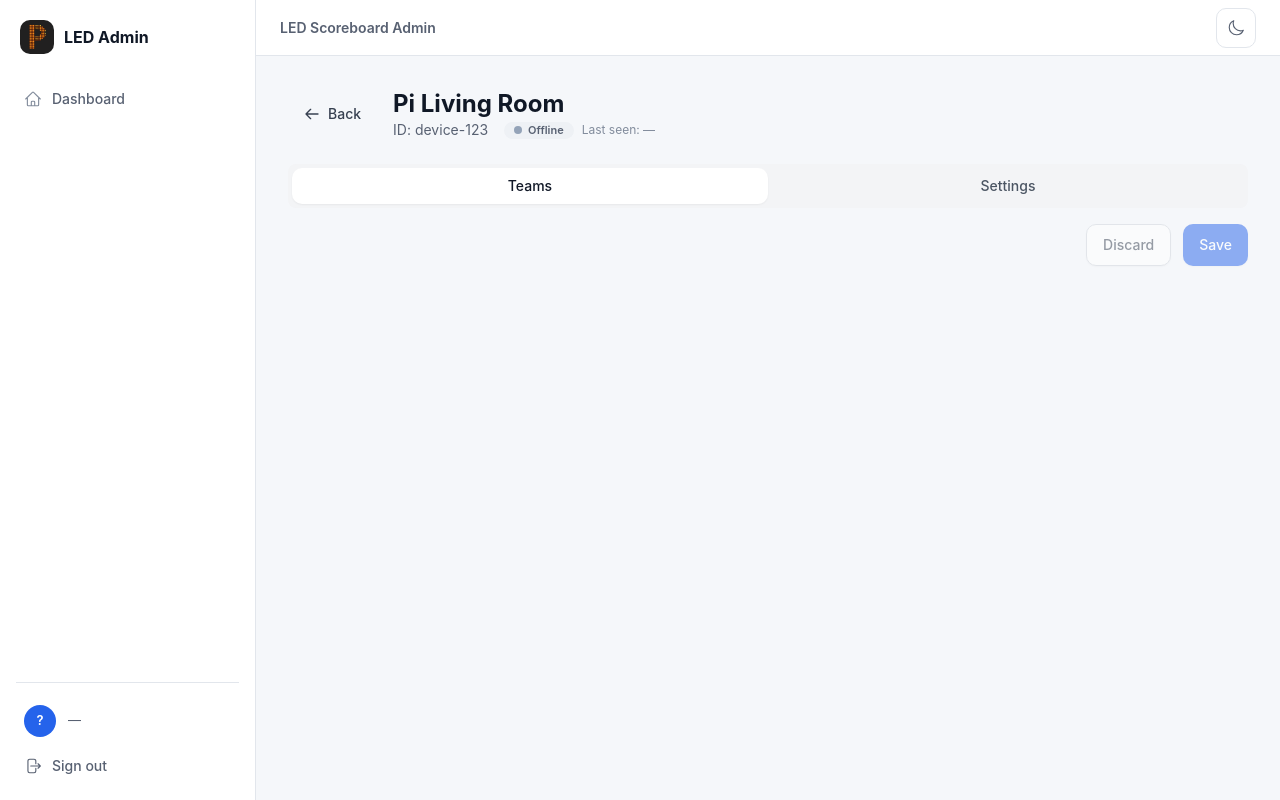
it: DevicePage – device rename integration › validation – Save Name button disabled state › disables Save Name button when the trimmed input matches the current device name
The width and height of the screenshot is (1280, 800).
Click the tab "Settings": (1008, 186) [772,168,1244,204]
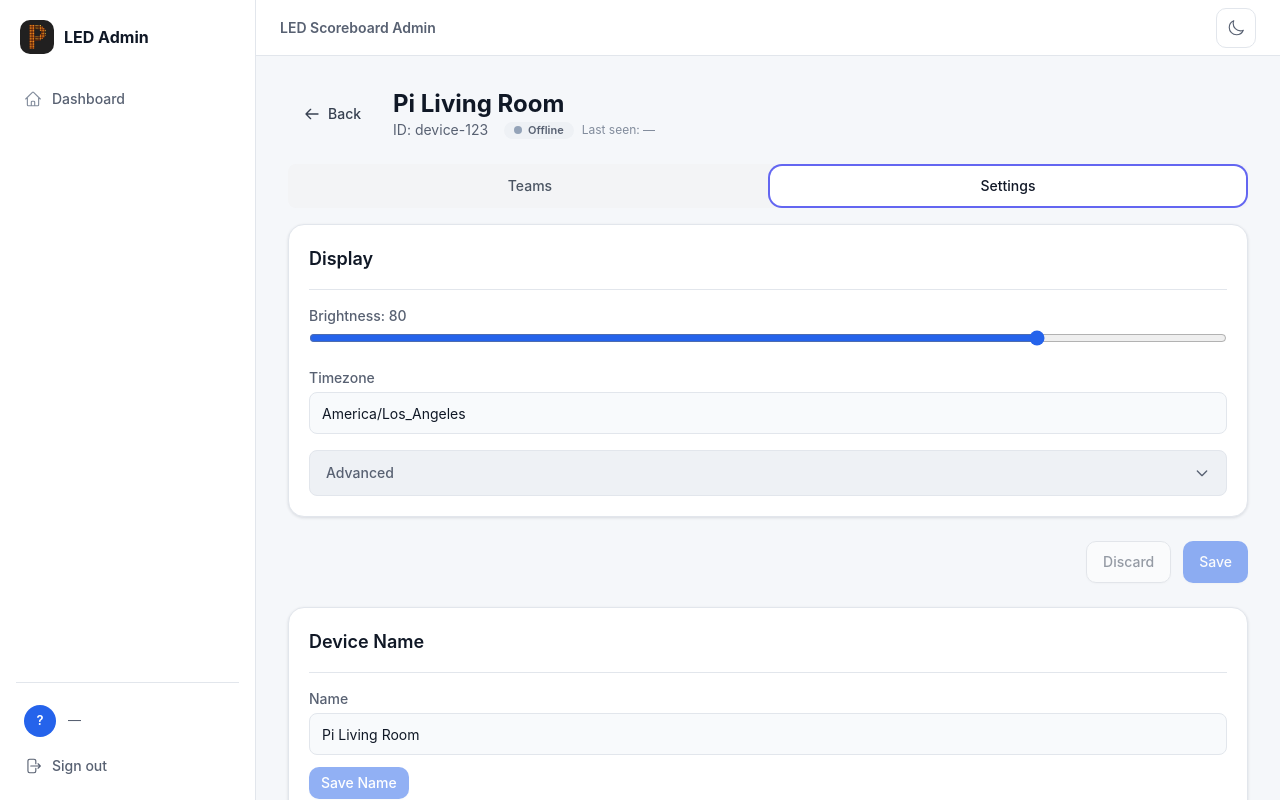
Expected: the field with placeholder "My Scoreboard" holds "Pi Living Room", [309,713,1227,755]
Expected: the button "Save Name" is disabled, [309,767,409,799]
